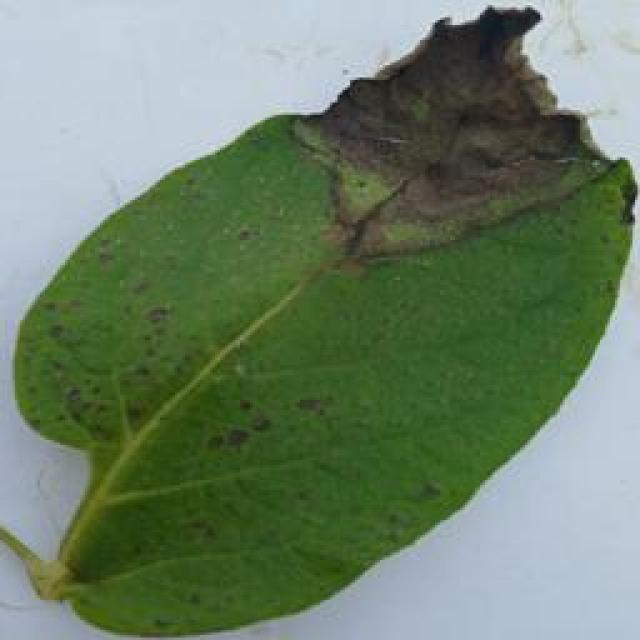Potato_Late_Blight: (9, 8, 640, 640)
